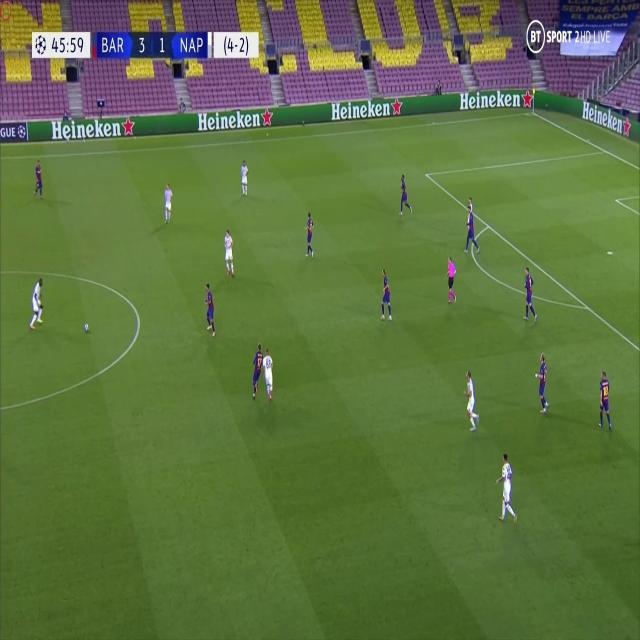ball: (83, 322, 90, 335)
player: (494, 450, 519, 528), (520, 265, 540, 326), (463, 364, 480, 434), (377, 264, 396, 325), (597, 367, 613, 435), (535, 347, 551, 415), (28, 271, 45, 331), (261, 348, 276, 402), (443, 253, 458, 305), (398, 170, 413, 218), (302, 210, 317, 258), (222, 228, 236, 278), (204, 281, 216, 339), (464, 206, 478, 254), (32, 155, 46, 201), (251, 342, 262, 399), (162, 180, 175, 228), (465, 196, 475, 237), (240, 158, 250, 197)
